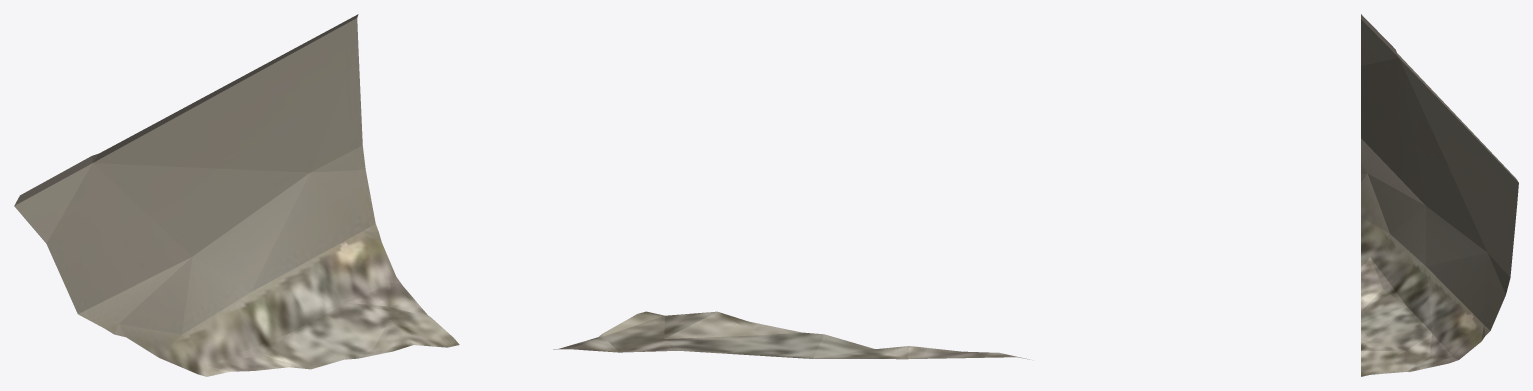
The picture shows the model from 3 angles, left to right: view 1: azimuth 30°, elevation 25°; view 2: azimuth 150°, elevation 25°; view 3: azimuth 270°, elevation 25°; orthographic projection. The views are drawn at different scales.
Size of the model in its own units: 1.09 by 0.5985 by 0.4333.
1 material, 1 textured.
